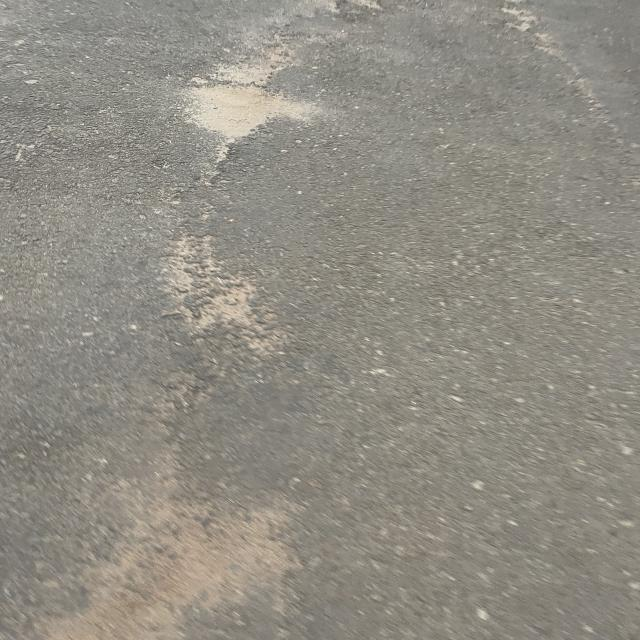D40: (123, 227, 331, 391)
D43: (24, 486, 322, 640), (155, 2, 392, 156)
